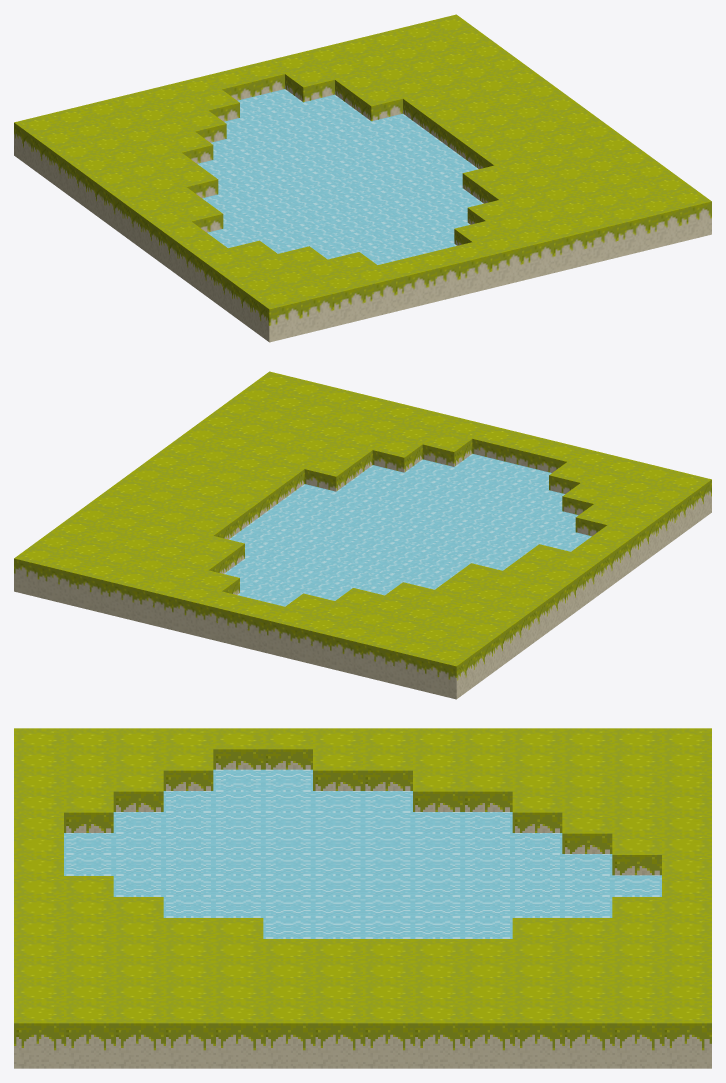
The model's file is st1_mhe2.fbx.
3 renders of one model, top to bottom at view 1: azimuth 30°, elevation 25°; view 2: azimuth 150°, elevation 25°; view 3: azimuth 270°, elevation 25°, orthographic. The views are drawn at different scales.
Parts seen in each view (by area): view 1: Ground_Grass_D__2__1__42__1; view 2: Ground_Grass_D__2__1__42__1; view 3: Ground_Grass_D__2__1__42__1.
Boxes of the visible parts, <box> form: Ground_Grass_D__2__1__42__1: <box>14,14,711,342</box>; Ground_Grass_D__2__1__42__1: <box>14,371,711,699</box>; Ground_Grass_D__2__1__42__1: <box>14,728,711,1068</box>.
Bounding box in the file's own units: 8400 × 600 × 8400.
Materials: 2 (2 with a texture image).
